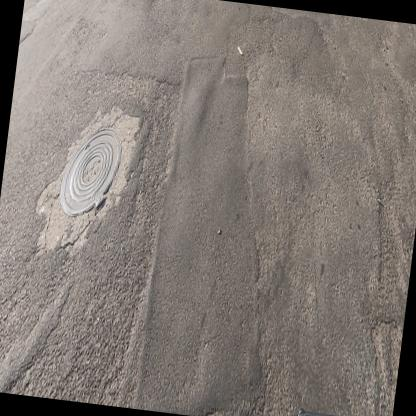manholes: (52, 108, 130, 236)
